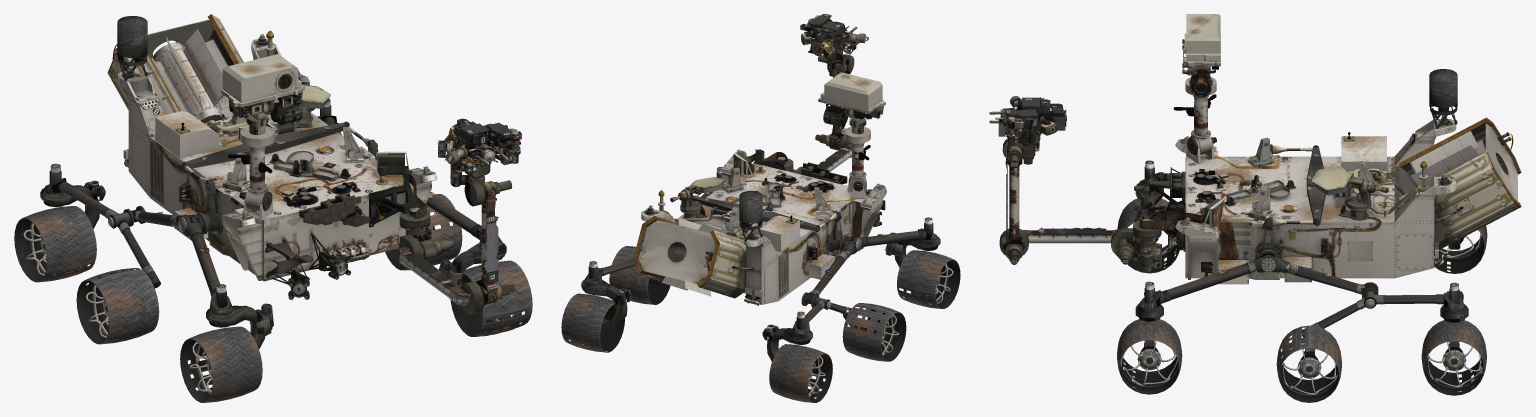
Rendered from curiosity.glb.
3 views of the same model, side by side, from view 1: azimuth 30°, elevation 25°; view 2: azimuth 150°, elevation 25°; view 3: azimuth 270°, elevation 25° (orthographic). The views are drawn at different scales.
Parts seen in each view (by area): view 1: MSL; view 2: MSL; view 3: MSL.
Boxes of the visible parts, x1=… form: MSL: x1=14, y1=14, x2=532, y2=402; MSL: x1=561, y1=14, x2=960, y2=402; MSL: x1=989, y1=14, x2=1521, y2=402.
Bounding box in the file's own units: 2.78 × 2.22 × 3.94.
9 materials, 8 textured.
